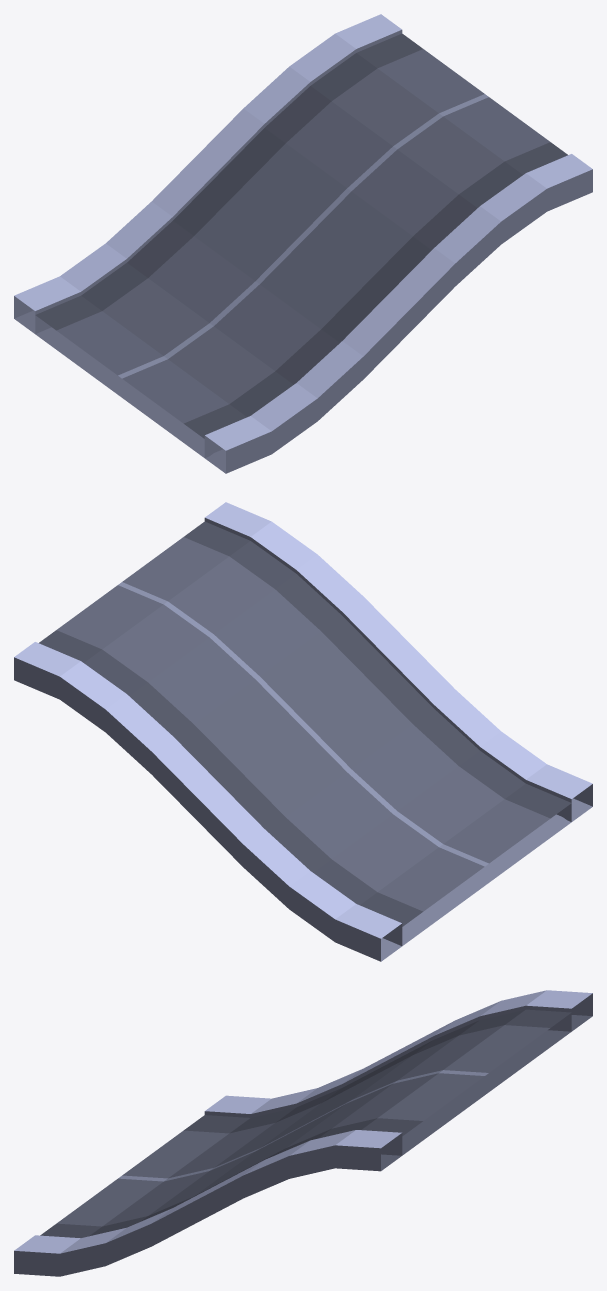
File: road-slant-flat-high.glb
3 views of the same model, one above another, from view 1: azimuth 30°, elevation 25°; view 2: azimuth 150°, elevation 25°; view 3: azimuth 330°, elevation 25° (orthographic).
Visible parts, largest first — view 1: road-slant-flat-high; view 2: road-slant-flat-high; view 3: road-slant-flat-high.
Boxes of the visible parts, bbox=[...] form: road-slant-flat-high: bbox=[14, 14, 592, 473]; road-slant-flat-high: bbox=[14, 502, 592, 961]; road-slant-flat-high: bbox=[14, 990, 592, 1276].
Size of the model in its own units: 1 by 0.56 by 1.
Materials: 1 (1 with a texture image).
